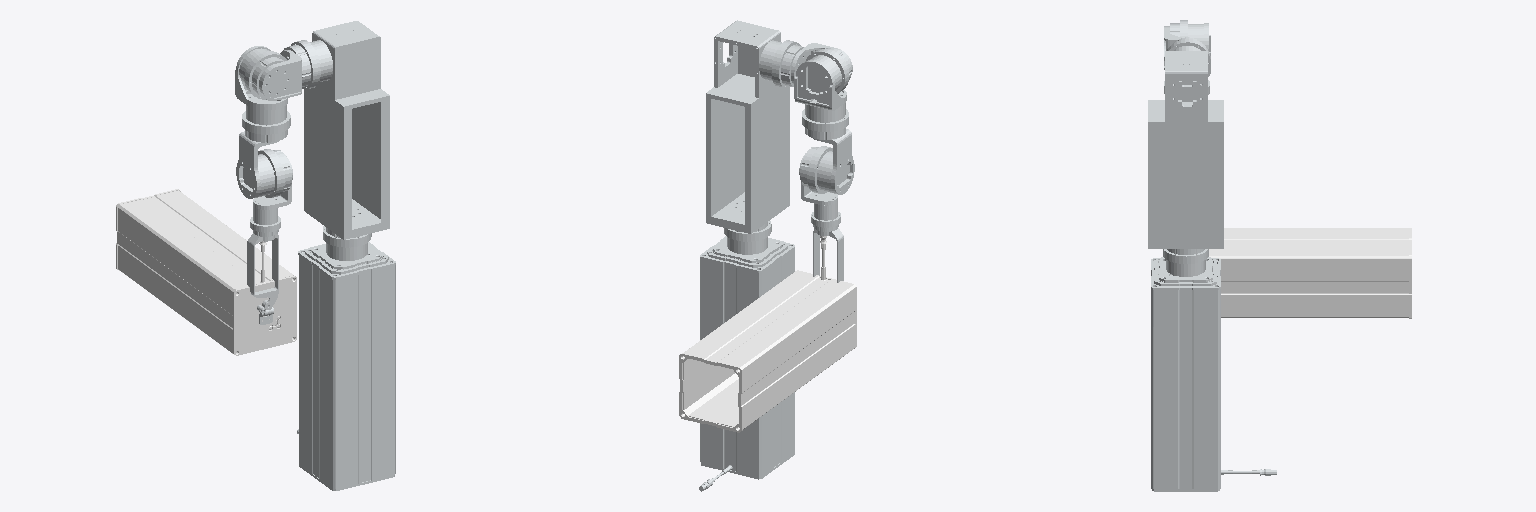
--- Facts derived from the render (not from the file) ---
3 views of the same robot in one strip: view 1: azimuth 30°, elevation 25°; view 2: azimuth 150°, elevation 25°; view 3: azimuth 270°, elevation 25° (orthographic).
Robot: urdf_34 — 31 links, 30 joints (20 revolute, 2 prismatic, 8 fixed); root link world; default pose: every joint at zero.
Links seen in each view (by area): view 1: base_link, R_hand_base_link, L_4, L_6, L_11, L_9, L_5, L_14, L_7, L_10, L_3, L_8 (+2 smaller); view 2: R_hand_base_link, L_4, base_link, L_8, L_11, L_5, L_9, L_7, L_10, L_3, L_14, L_13 (+1 smaller); view 3: R_hand_base_link, base_link, L_4, L_3, L_2, L_5.
Boxes of the visible links, x1=… form: base_link: x1=297, y1=242, x2=395, y2=490; R_hand_base_link: x1=116, y1=189, x2=296, y2=355; L_4: x1=304, y1=21, x2=389, y2=239; L_6: x1=259, y1=50, x2=301, y2=100; L_11: x1=243, y1=149, x2=291, y2=197; L_9: x1=242, y1=97, x2=290, y2=142; L_5: x1=283, y1=40, x2=332, y2=89; L_14: x1=247, y1=233, x2=278, y2=309; L_7: x1=239, y1=48, x2=287, y2=100; L_10: x1=236, y1=131, x2=278, y2=198; L_3: x1=323, y1=226, x2=371, y2=260; L_8: x1=235, y1=46, x2=287, y2=109; R_hand_base_link: x1=679, y1=236, x2=856, y2=432; L_4: x1=706, y1=20, x2=789, y2=233; base_link: x1=699, y1=236, x2=794, y2=491; L_8: x1=794, y1=60, x2=846, y2=110; L_11: x1=800, y1=146, x2=849, y2=193; L_5: x1=759, y1=40, x2=803, y2=88; L_9: x1=802, y1=103, x2=848, y2=139; L_7: x1=806, y1=48, x2=851, y2=93; L_10: x1=813, y1=129, x2=854, y2=194; L_3: x1=724, y1=221, x2=771, y2=254; L_14: x1=813, y1=228, x2=843, y2=282; L_13: x1=811, y1=202, x2=840, y2=231; R_hand_base_link: x1=1209, y1=228, x2=1411, y2=318; base_link: x1=1151, y1=258, x2=1276, y2=491; L_4: x1=1148, y1=51, x2=1223, y2=248; L_3: x1=1163, y1=249, x2=1208, y2=276; L_2: x1=1159, y1=258, x2=1212, y2=282; L_5: x1=1164, y1=37, x2=1210, y2=84.
Bounding box of the posed robot: 0.374 × 0.6211 × 1.08 m (x, y, z).
Meshes: 30 distinct files referenced, 18 mesh visuals loaded (17 binary STL); not drawn: 12 (reference not matched to a file when rendering).

robot.urdf — urdf_34:
<?xml version="1.0" encoding="utf-8"?>
<!-- This URDF was automatically created by SolidWorks to URDF Exporter! Originally created by Stephen Brawner ([email redacted]) 
     Commit Version: 1.6.0-4-g7f85cfe  Build Version: 1.6.7995.38578
     For more information, please see http://wiki.ros.org/sw_urdf_exporter -->
<robot
  name="urdf_34">
  
  
  <link name="world"/>
  <joint name="base_joint" type="fixed">
  <parent link="world"/>
  <child link="base_link"/>
  <origin rpy="0 0 0" xyz="0.0 0.0 0.0"/>
  </joint>
  
  
  <link
    name="base_link">
    <inertial>
      <origin
        xyz="1.25780987548766E-05 0.000681174627659374 0.253431024547346"
        rpy="0 0 0" />
      <mass
        value="7.68792706823456" />
      <inertia
        ixx="0.223518553679189"
        ixy="2.28783796069601E-06"
        ixz="2.4368970219585E-05"
        iyy="0.222632555984978"
        iyz="0.00126532411786533"
        izz="0.0612129580425704" />
    </inertial>
    <visual>
      <origin
        xyz="0 0 0"
        rpy="0 0 0" />
      <geometry>
        <mesh
          filename="package://urdf_33/meshes/base_link.STL" />
      </geometry>
      <material
        name="">
        <color
          rgba="0.898039215686275 0.917647058823529 0.929411764705882 1" />
      </material>
    </visual>
    <collision>
      <origin
        xyz="0 0 0"
        rpy="0 0 0" />
      <geometry>
        <mesh
          filename="package://urdf_33/meshes/base_link.STL" />
      </geometry>
    </collision>
  </link>
  <link
    name="L_1">
    <inertial>
      <origin xyz="0.00000 0.00000 0.26434" rpy="0 0 0" />
      <mass value="6.114" />
      <inertia
        ixx="0.16134344829"
        ixy="0.00"
        ixz="0.00"
        iyy="0.16134344829"
        iyz="0.00"
        izz="0.03750135048" />
    </inertial>
    <visual>
      <origin
        xyz="0 0 0"
        rpy="0 0 0" />
      <geometry>
        <mesh
          filename="package://urdf_33/meshes/L_1.STL" />
      </geometry>
      <material
        name="">
        <color
          rgba="0.898039215686275 0.917647058823529 0.929411764705882 1" />
      </material>
    </visual>
    <collision>
      <origin
        xyz="0 0 0"
        rpy="0 0 0" />
      <geometry>
        <mesh
          filename="package://urdf_33/meshes/L_1.STL" />
      </geometry>
    </collision>
  </link>
  <joint
    name="J_1"
    type="prismatic">
    <origin
      xyz="0 0 0.0055"
      rpy="0 0 0" />
    <parent
      link="base_link" />
    <child
      link="L_1" />
    <axis
      xyz="0 0 1" />
    <limit
      lower="0"
      upper="0.3"
      effort="3000"
      velocity="0.3" />
  </joint>
  <link
    name="L_2">
    <inertial>
      <origin xyz="-0.00002 0.00001 0.27355" rpy="0 0 0" />
      <mass value="5.611" />
      <inertia
        ixx="0.15270456747"
        ixy="0.00000199839"
        ixz="-0.00002255179"
        iyy="0.15270439732"
        iyz="0.00002161213"
        izz="0.02601868013" />
    </inertial>
    <visual>
      <origin
        xyz="0 0 0"
        rpy="0 0 0" />
      <geometry>
        <mesh
          filename="package://urdf_33/meshes/L_2.STL" />
      </geometry>
      <material
        name="">
        <color
          rgba="0.898039215686275 0.917647058823529 0.929411764705882 1" />
      </material>
    </visual>
    <collision>
      <origin
        xyz="0 0 0"
        rpy="0 0 0" />
      <geometry>
        <mesh
          filename="package://urdf_33/meshes/L_2.STL" />
      </geometry>
    </collision>
  </link>
  <joint
    name="J_2"
    type="prismatic">
    <origin
      xyz="0 0 0.00109999999999999"
      rpy="0 0 0" />
    <parent
      link="L_1" />
    <child
      link="L_2" />
    <axis
      xyz="0 0 1" />
    <limit
      lower="0"
      upper="0.3"
      effort="3000"
      velocity="0.3" />
  </joint>
  <link
    name="L_3">
    <inertial>
      <origin xyz="0.00111 -0.00107 0.03512" rpy="0 0 0" />
      <mass value="1.33" />
      <inertia
        ixx="0.00141885074"
        ixy="0.00"
        ixz="0.00"
        iyy="0.00142013899"
        iyz="0.00"
        izz="0.00177138551" />
    </inertial>
    <visual>
      <origin
        xyz="0 0 0"
        rpy="0 0 0" />
      <geometry>
        <mesh
          filename="package://urdf_33/meshes/L_3.STL" />
      </geometry>
      <material
        name="">
        <color
          rgba="0.898039215686275 0.917647058823529 0.929411764705882 1" />
      </material>
    </visual>
    <collision>
      <origin
        xyz="0 0 0"
        rpy="0 0 0" />
      <geometry>
        <mesh
          filename="package://urdf_33/meshes/L_3.STL" />
      </geometry>
    </collision>
  </link>
  <joint
    name="J_3"
    type="fixed">
    <origin
      xyz="-0.00111475710414264 0.00106830889147812 0.5345"
      rpy="0 0 0" />
    <parent
      link="L_2" />
    <child
      link="L_3" />
    <axis
      xyz="0 0 0" />
  </joint>
  <link
    name="L_4">
    <inertial>
      <origin xyz="0.00000 -0.00188 0.19176" rpy="0 0 0" />
      <mass value="7.125" />
      <inertia
        ixx="0.15088366647"
        ixy="0.00"
        ixz="0.00"
        iyy="0.14956609442"
        iyz="-0.00191828991"
        izz="0.03368231360" />
    </inertial>
    <visual>
      <origin
        xyz="0 0 0"
        rpy="0 0 0" />
      <geometry>
        <mesh
          filename="package://urdf_33/meshes/L_4.STL" />
      </geometry>
      <material
        name="">
        <color
          rgba="0.898039215686275 0.917647058823529 0.929411764705882 1" />
      </material>
    </visual>
    <collision>
      <origin
        xyz="0 0 0"
        rpy="0 0 0" />
      <geometry>
        <mesh
          filename="package://urdf_33/meshes/L_4.STL" />
      </geometry>
    </collision>
  </link>
  <joint
    name="J_4"
    type="revolute">
    <origin
      xyz="0.00111475710414247 -0.00105760591264392 0.0805000000000002"
      rpy="0 0 0" />
    <parent
      link="L_3" />
    <child
      link="L_4" />
    <axis
      xyz="0 0 1" />
    <limit
      lower="-1.5"
      upper="1.5"
      effort="100"
      velocity="10" />
  </joint>
  <link
    name="L_5">
    <inertial>
      <origin xyz="-0.03512 0.00000 0.00000" rpy="0 0 0" />
      <mass value="1.335" />
      <inertia
        ixx="0.00177138551"
        ixy="0.00"
        ixz="0.00"
        iyy="0.00142013899"
        iyz="0.00"
        izz="0.00141885074" />
    </inertial>
    <visual>
      <origin
        xyz="0 0 0"
        rpy="0 0 0" />
      <geometry>
        <mesh
          filename="package://urdf_33/meshes/L_5.STL" />
      </geometry>
      <material
        name="">
        <color
          rgba="0.898039215686275 0.917647058823529 0.929411764705882 1" />
      </material>
    </visual>
    <collision>
      <origin
        xyz="0 0 0"
        rpy="0 0 0" />
      <geometry>
        <mesh
          filename="package://urdf_33/meshes/L_5.STL" />
      </geometry>
    </collision>
  </link>
  <joint
    name="J_5"
    type="fixed">
    <origin
      xyz="-0.0600000000000001 0.0039892970211759 0.407499999999999"
      rpy="0 0 0" />
    <parent
      link="L_4" />
    <child
      link="L_5" />
    <axis
      xyz="0 0 0" />
  </joint>
  <link
    name="L_6">
    <inertial>
      <origin xyz="-0.03195 -0.02916 0.00000" rpy="0 0 0" />
      <mass value="0.411" />
      <inertia
        ixx="0.00049976428"
        ixy="0.00019230278"
        ixz="0.00"
        iyy="0.00065933658"
        iyz="0.00"
        izz="0.00068145683" />
    </inertial>
    <visual>
      <origin
        xyz="0 0 0"
        rpy="0 0 0" />
      <geometry>
        <mesh
          filename="package://urdf_33/meshes/L_6.STL" />
      </geometry>
      <material
        name="">
        <color
          rgba="0.898039215686275 0.917647058823529 0.929411764705882 1" />
      </material>
    </visual>
    <collision>
      <origin
        xyz="0 0 0"
        rpy="0 0 0" />
      <geometry>
        <mesh
          filename="package://urdf_33/meshes/L_6.STL" />
      </geometry>
    </collision>
  </link>
  <joint
    name="J_6"
    type="revolute">
    <origin
      xyz="-0.0805 0 0"
      rpy="0 0 0" />
    <parent
      link="L_5" />
    <child
      link="L_6" />
    <axis
      xyz="1 0 0" />
    <limit
      lower="-1.5"
      upper="1.5"
      effort="100"
      velocity="10" />
  </joint>
  <link
    name="L_7">
    <inertial>
      <origin xyz="0.00000 0.04538 0.00000" rpy="0 0 0" />
      <mass value="1.335" />
      <inertia
        ixx="0.00142013899"
        ixy="0.00"
        ixz="0.00"
        iyy="0.00177138551"
        iyz="0.00"
        izz="0.00141885074" />
    </inertial>
    <visual>
      <origin
        xyz="0 0 0"
        rpy="0 0 0" />
      <geometry>
        <mesh
          filename="package://urdf_33/meshes/L_7.STL" />
      </geometry>
      <material
        name="">
        <color
          rgba="0.898039215686275 0.917647058823529 0.929411764705882 1" />
      </material>
    </visual>
    <collision>
      <origin
        xyz="0 0 0"
        rpy="0 0 0" />
      <geometry>
        <mesh
          filename="package://urdf_33/meshes/L_7.STL" />
      </geometry>
    </collision>
  </link>
  <joint
    name="J_7"
    type="revolute">
    <origin
      xyz="-0.0670000000000069 -0.0410000000000239 0"
      rpy="0 0 0" />
    <parent
      link="L_6" />
    <child
      link="L_7" />
    <axis
      xyz="0 1 0" />
    <limit
      lower="-1.5"
      upper="1.5"
      effort="100"
      velocity="10" />
  </joint>
  <link
    name="L_8">
    <inertial>
      <origin xyz="0.00000 -0.01333 -0.03814" rpy="0 0 0" />
      <mass value="0.393" />
      <inertia
        ixx="0.00066108376"
        ixy="0.00000027"
        ixz="0.00000018"
        iyy="0.00078769340"
        iyz="0.00015213990"
        izz="0.00074367790" />
    </inertial>
    <visual>
      <origin
        xyz="0 0 0"
        rpy="0 0 0" />
      <geometry>
        <mesh
          filename="package://urdf_33/meshes/L_8.STL" />
      </geometry>
      <material
        name="">
        <color
          rgba="0.898039215686275 0.917647058823529 0.929411764705882 1" />
      </material>
    </visual>
    <collision>
      <origin
        xyz="0 0 0"
        rpy="0 0 0" />
      <geometry>
        <mesh
          filename="package://urdf_33/meshes/L_8.STL" />
      </geometry>
    </collision>
  </link>
  <joint
    name="J_8"
    type="fixed">
    <origin
      xyz="0 0.0805000000000001 0"
      rpy="0 0 0" />
    <parent
      link="L_7" />
    <child
      link="L_8" />
    <axis
      xyz="0 0 0" />
  </joint>
  <link
    name="L_9">
    <inertial>
      <origin xyz="0.00000 0.00000 -0.03512" rpy="0 0 0" />
      <mass value="1.335" />
      <inertia
        ixx="0.00142013899"
        ixy="0.00"
        ixz="0.00"
        iyy="0.00141885074"
        iyz="0.00"
        izz="0.00177138551" />
    </inertial>
    <visual>
      <origin
        xyz="0 0 0"
        rpy="0 0 0" />
      <geometry>
        <mesh
          filename="package://urdf_33/meshes/L_9.STL" />
      </geometry>
      <material
        name="">
        <color
          rgba="0.898039215686275 0.917647058823529 0.929411764705882 1" />
      </material>
    </visual>
    <collision>
      <origin
        xyz="0 0 0"
        rpy="0 0 0" />
      <geometry>
        <mesh
          filename="package://urdf_33/meshes/L_9.STL" />
      </geometry>
    </collision>
  </link>
  <joint
    name="J_9"
    type="fixed">
    <origin
      xyz="-0.000433012701890473 -0.0412499999999927 -0.0659999999999992"
      rpy="0 0 0" />
    <parent
      link="L_8" />
    <child
      link="L_9" />
    <axis
      xyz="0 0 0" />
  </joint>
  <link
    name="L_10">
    <inertial>
      <origin xyz="-0.03120 0.00044 -0.04143" rpy="0 0 0" />
      <mass value="0.330" />
      <inertia
        ixx="0.00078664219"
        ixy="-0.00000213328"
        ixz="0.00017780444"
        iyy="0.00079902226"
        iyz="-0.00000844646"
        izz="0.00033213006" />
    </inertial>
    <visual>
      <origin
        xyz="0 0 0"
        rpy="0 0 0" />
      <geometry>
        <mesh
          filename="package://urdf_33/meshes/L_10.STL" />
      </geometry>
      <material
        name="">
        <color
          rgba="0.89804 0.91765 0.92941 1" />
      </material>
    </visual>
    <collision>
      <origin
        xyz="0 0 0"
        rpy="0 0 0" />
      <geometry>
        <mesh
          filename="package://urdf_33/meshes/L_10.STL" />
      </geometry>
    </collision>
  </link>
  <joint
    name="J_10"
    type="revolute">
    <origin
      xyz="0 0 -0.0804999999999999"
      rpy="0 0 0" />
    <parent
      link="L_9" />
    <child
      link="L_10" />
    <axis
      xyz="0 0 1" />
    <limit
      lower="-1.5"
      upper="1.5"
      effort="100"
      velocity="10" />
  </joint>
  <link
    name="L_11">
    <inertial>
      <origin xyz="0.03512 0.00000 0.00000" rpy="0 0 0" />
      <mass value="1.335" />
      <inertia
        ixx="0.00177138551"
        ixy="0.00"
        ixz="0.00"
        iyy="0.00141885074"
        iyz="0.00"
        izz="0.00142013899" />
    </inertial>
    <visual>
      <origin
        xyz="0 0 0"
        rpy="0 0 0" />
      <geometry>
        <mesh
          filename="package://urdf_33/meshes/L_11.STL" />
      </geometry>
      <material
        name="">
        <color
          rgba="0.89804 0.91765 0.92941 1" />
      </material>
    </visual>
    <collision>
      <origin
        xyz="0 0 0"
        rpy="0 0 0" />
      <geometry>
        <mesh
          filename="package://urdf_33/meshes/L_11.STL" />
      </geometry>
    </collision>
  </link>
  <joint
    name="J_11"
    type="fixed">
    <origin
      xyz="-0.041 0 -0.1"
      rpy="0 0 0" />
    <parent
      link="L_10" />
    <child
      link="L_11" />
    <axis
      xyz="0 0 0" />
  </joint>
  <link
    name="L_12">
    <inertial>
      <origin xyz="-0.00870 0.00002 -0.03893" rpy="0 0 0" />
      <mass value="0.259" />
      <inertia
        ixx="0.00036532565"
        ixy="0.00000003378"
        ixz="0.00011054838"
        iyy="0.00040952064"
        iyz="-0.00000007926"
        izz="0.00019014708" />
    </inertial>
    <visual>
      <origin
        xyz="0 0 0"
        rpy="0 0 0" />
      <geometry>
        <mesh
          filename="package://urdf_33/meshes/L_12.STL" />
      </geometry>
      <material
        name="">
        <color
          rgba="0.89804 0.91765 0.92941 1" />
      </material>
    </visual>
    <collision>
      <origin
        xyz="0 0 0"
        rpy="0 0 0" />
      <geometry>
        <mesh
          filename="package://urdf_33/meshes/L_12.STL" />
      </geometry>
    </collision>
  </link>
  <joint
    name="J_12"
    type="revolute">
    <origin
      xyz="0.0805 0 0"
      rpy="0 0 0" />
    <parent
      link="L_11" />
    <child
      link="L_12" />
    <axis
      xyz="1 0 0" />
    <limit
      lower="-1.5"
      upper="1.5"
      effort="100"
      velocity="10" />
  </joint>
  <link
    name="L_13">
    <inertial>
      <origin xyz="0.00000 -0.00005 -0.03140" rpy="0 0 0" />
      <mass value="0.448" />
      <inertia
        ixx="0.00024556469"
        ixy="0.00"
        ixz="0.00"
        iyy="0.00024466436"
        iyz="0.00000003347"
        izz="0.00022188830" />
    </inertial>
    <visual>
      <origin
        xyz="0 0 0"
        rpy="0 0 0" />
      <geometry>
        <mesh
          filename="package://urdf_33/meshes/L_13.STL" />
      </geometry>
      <material
        name="">
        <color
          rgba="0.89804 0.91765 0.92941 1" />
      </material>
    </visual>
    <collision>
      <origin
        xyz="0 0 0"
        rpy="0 0 0" />
      <geometry>
        <mesh
          filename="package://urdf_33/meshes/L_13.STL" />
      </geometry>
    </collision>
  </link>
  <joint
    name="J_13"
    type="fixed">
    <origin
      xyz="-0.0410000001139579 0 -0.0749999998523891"
      rpy="0 0 0" />
    <parent
      link="L_12" />
    <child
      link="L_13" />
    <axis
      xyz="0 0 0" />
  </joint>
  
  <link
    name="L_14">
    <inertial>
      <origin xyz="-0.00267 -0.00014 -0.09488" rpy="0 0 0" />
      <mass value="0.173" />
      <inertia
        ixx="0.00072481044"
        ixy="-0.00000004450"
        ixz="-0.00002997586"
        iyy="0.00080105001"
        iyz="0.00000103706"
        izz="0.00010511083" />
    </inertial>
    <visual>
      <origin
        xyz="0 0 0"
        rpy="0 0 0" />
      <geometry>
        <mesh
          filename="package://urdf_33/meshes/L_14.STL" />
      </geometry>
      <material
        name="">
        <color
          rgba="0.898039215686275 0.917647058823529 0.929411764705882 1" />
      </material>
    </visual>
    <collision>
      <origin
        xyz="0 0 0"
        rpy="0 0 0" />
      <geometry>
        <mesh
          filename="package://urdf_33/meshes/L_14.STL" />
      </geometry>
    </collision>
  </link>
  <joint
    name="J_14"
    type="revolute">
    <origin
      xyz="0 -9.80173985849096E-05 -0.0666999279803926"
      rpy="0 0 0" />
    <parent
      link="L_13" />
    <child
      link="L_14" />
    <axis
      xyz="0 0.00146952621566586 0.999998920245768" />
    <limit
      lower="-1.5"
      upper="1.5"
      effort="100"
      velocity="10" />
  </joint>
  <link
    name="L_15">
    <inertial>
      <origin xyz="0.00000 -0.00001 -0.00900" rpy="0 0 0" />
      <mass value="0.02090" />
      <inertia
        ixx="0.00000285983"
        ixy="0.00"
        ixz="0.00"
        iyy="0.00000285983"
        iyz="0.00000000265"
        izz="0.00000105940" />
    </inertial>
    <visual>
      <origin
        xyz="0 0 0"
        rpy="0 0 0" />
      <geometry>
        <mesh
          filename="package://urdf_33/meshes/L_15.STL" />
      </geometry>
      <material
        name="">
        <color
          rgba="0.898039215686275 0.917647058823529 0.929411764705882 1" />
      </material>
    </visual>
    <collision>
      <origin
        xyz="0 0 0"
        rpy="0 0 0" />
      <geometry>
        <mesh
          filename="package://urdf_33/meshes/L_15.STL" />
      </geometry>
    </collision>
  </link>
  <joint
    name="J_15"
    type="revolute">
    <origin
      xyz="-1.32257359521659E-05 -0.000285779917684612 -0.179499764136764"
      rpy="0 0 0" />
    <parent
      link="L_14" />
    <child
      link="L_15" />
    <axis
      xyz="0 -0.999998920245768 0.00146952621563497" />
    <limit
      lower="-1.5"
      upper="1.5"
      effort="100"
      velocity="10" />
  </joint>
  <link
    name="L_16">
    <inertial>
      <origin xyz="-0.00545 0.00000 -0.00147" rpy="0 0 0" />
      <mass value="0.02957" />
      <inertia
        ixx="0.00000731332"
        ixy="0.00000001"
        ixz="-0.00000233864"
        iyy="0.00001046540"
        iyz="-0.00000001"
        izz="0.00000602770" />
    </inertial>
    <visual>
      <origin
        xyz="0 0 0"
        rpy="0 0 0" />
      <geometry>
        <mesh
          filename="package://urdf_33/meshes/L_16.STL" />
      </geometry>
      <material
        name="">
        <color
          rgba="0.898039215686275 0.917647058823529 0.929411764705882 1" />
      </material>
    </visual>
    <collision>
      <origin
        xyz="0 0 0"
        rpy="0 0 0" />
      <geometry>
        <mesh
          filename="package://urdf_33/meshes/L_16.STL" />
      </geometry>
    </collision>
  </link>
  <joint
    name="J_16"
    type="revolute">
    <origin
      xyz="0 -2.64514718814426E-05 -0.0179999805644238"
      rpy="0 0 0" />
    <parent
      link="L_15" />
    <child
      link="L_16" />
    <axis
      xyz="1 0 0" />
    <limit
      lower="-1.5"
      upper="1.5"
      effort="100"
      velocity="10" />
  </joint>
  
  <link
    name="R_hand_base_link">
    <inertial>
      <origin
        xyz="-0.0025264 -0.066047 0.0019598"
        rpy="0 0 0" />
      <mass
        value="0.14143" />
      <inertia
        ixx="0.00012281"
        ixy="2.1711E-06"
        ixz="1.7709E-06"
        iyy="8.3832E-05"
        iyz="-1.6551E-06"
        izz="7.6663E-05" />
    </inertial>
    <visual>
      <origin
        xyz="0 0 0"
        rpy="0 0 0" />
      <geometry>
        <mesh
          filename="package://r_inspire/meshes/base_link.STL" />
      </geometry>
      <material
        name="">
        <color
          rgba="1 1 1 1" />
      </material>
    </visual>
    <collision>
      <origin
        xyz="0 0 0"
        rpy="0 0 0" />
      <geometry>
        <mesh
          filename="package://r_inspire/meshes/base_link.STL" />
      </geometry>
    </collision>
  </link>
  <joint
    name="J_17"
    type="fixed">
    <origin
      xyz="1.3226E-05 0 -0.012"
      rpy="1.57 0 3.14" />
    <parent
      link="L_16" />
    <child
      link="R_hand_base_link" />
    <axis
      xyz="0 0 0" />
  </joint>
  
  <link
    name="R_thumb_proximal_base">
    <inertial>
      <origin
        xyz="-0.0048064 0.0009382 -0.00757"
        rpy="0 0 0" />
      <mass
        value="0.0018869" />
      <inertia
        ixx="5.816E-08"
        ixy="1.4539E-08"
        ixz="4.491E-09"
        iyy="7.9161E-08"
        iyz="-1.8727E-09"
        izz="6.7433E-08" />
    </inertial>
    <visual>
      <origin
        xyz="0 0 0"
        rpy="0 0 0" />
      <geometry>
        <mesh
          filename="package://r_inspire/meshes/Link11.STL" />
      </geometry>
      <material
        name="">
        <color
          rgba="1 1 1 1" />
      </material>
    </visual>
    <collision>
      <origin
        xyz="0 0 0"
        rpy="0 0 0" />
      <geometry>
        <mesh
          filename="package://r_inspire/meshes/Link11.STL" />
      </geometry>
    </collision>
  </link>
  <joint
    name="R_thumb_proximal_yaw_joint"
    type="revolute">
    <origin
      xyz="-0.01696 -0.0691 -0.02045"
      rpy="1.5708 -1.5708 0" />
    <parent
      link="R_hand_base_link" />
    <child
      link="R_thumb_proximal_base" />
    <axis
      xyz="0 0 -1" />
    <limit
      lower="-0.1"
      upper="1.3"
      effort="1"
      velocity="0.5" />
  </joint>
  <link
    name="R_thumb_proximal">
    <inertial>
      <origin
        xyz="0.021932 0.012785 -0.0080386"
        rpy="0 0 0" />
      <mass
        value="0.0066075" />
      <inertia
        ixx="1.5686E-06"
        ixy="-7.8296E-07"
        ixz="8.9143E-10"
        iyy="1.7353E-06"
        iyz="-1.0191E-09"
        izz="2.786E-06" />
    </inertial>
    <visual>
      <origin
        xyz="0 0 0"
        rpy="0 0 0" />
      <geometry>
        <mesh
          filename="package://r_inspire/meshes/Link12.STL" />
      </geometry>
      <material
        name="">
        <color
          rgba="1 1 1 1" />
      </material>
    </visual>
    <collision>
      <origin
        xyz="0 0 0"
        rpy="0 0 0" />
      <geometry>
        <mesh
          filename="package://r_inspire/meshes/Link12.STL" />
      </geometry>
    </collision>
  </link>
  <joint
    name="R_thumb_proximal_pitch_joint"
    type="revolute">
    <origin
      xyz="-0.0088099 0.010892 -0.00925"
      rpy="1.5708 0 2.8587" />
    <parent
      link="R_thumb_proximal_base" />
    <child
      link="R_thumb_proximal" />
    <axis
      xyz="0 0 1" />
    <limit
      lower="-0.1"
      upper="0.6"
      effort="1"
      velocity="0.5" />
  </joint>
  <link
    name="R_thumb_intermediate">
    <inertial>
      <origin
        xyz="0.0095544 -0.0016282 -0.0071997"
        rpy="0 0 0" />
      <mass
        value="0.0037847" />
      <inertia
        ixx="3.6981E-07"
        ixy="-9.8581E-08"
        ixz="-4.7469E-12"
        iyy="3.2394E-07"
        iyz="1.0939E-12"
        izz="4.6531E-07" />
    </inertial>
    <visual>
      <origin
        xyz="0 0 0"
        rpy="0 0 0" />
      <geometry>
        <mesh
          filename="package://r_inspire/meshes/Link13.STL" />
      </geometry>
      <material
        name="">
        <color
          rgba="1 1 1 1" />
      </material>
    </visual>
    <collision>
      <origin
        xyz="0 0 0"
        rpy="0 0 0" />
      <geometry>
        <mesh
          filename="package://r_inspire/meshes/Link13.STL" />
      </geometry>
    </collision>
  </link>
  <joint
    name="R_thumb_intermediate_joint"
    type="revolute">
    <origin
      xyz="0.04407 0.034553 -0.0008"
      rpy="0 0 0" />
    <parent
      link="R_thumb_proximal" />
    <child
      link="R_thumb_intermediate" />
    <axis
      xyz="0 0 1" />
    <limit
      lower="0"
      upper="0.8"
      effort="1"
      velocity="0.5" />
    <mimic 
      joint="R_thumb_proximal_pitch_joint"
      multiplier="1.6"
      offset="0" />
  </joint>
  <link
    name="R_thumb_distal">
    <inertial>
      <origin
        xyz="0.0092888 0.0049529 -0.0060033"
        rpy="0 0 0" />
      <mass
        value="0.0033441" />
      <inertia
        ixx="1.3632E-07"
        ixy="-5.6788E-08"
        ixz="-9.2764E-11"
        iyy="1.4052E-07"
        iyz="-1.2283E-10"
        izz="2.0026E-07" />
    </inertial>
    <visual>
      <origin
        xyz="0 0 0"
        rpy="0 0 0" />
      <geometry>
        <mesh
          filename="package://r_inspire/meshes/Link14.STL" />
      </geometry>
      <material
        name="">
        <color
          rgba="1 1 1 1" />
      </material>
    </visual>
    <collision>
      <origin
        xyz="0 0 0"
        rpy="0 0 0" />
      <geometry>
        <mesh
          filename="package://r_inspire/meshes/Link14.STL" />
      </geometry>
    </collision>
  </link>
  <joint
    name="R_thumb_distal_joint"
    type="revolute">
    <origin
      xyz="0.020248 0.010156 -0.0012"
      rpy="0 0 0" />
    <parent
      link="R_thumb_intermediate" />
    <child
      link="R_thumb_distal" />
    <axis
      xyz="0 0 1" />
    <limit
      lower="0"
      upper="1.2"
      effort="1"
      velocity="0.5" />
    <mimic 
      joint="R_thumb_proximal_pitch_joint"
      multiplier="2.4"
      offset="0" />
  </joint>
  <link
    name="R_index_proximal">
    <inertial>
      <origin
        xyz="0.0012259 0.011942 -0.0060001"
        rpy="0 0 0" />
      <mass
        value="0.0042403" />
      <inertia
        ixx="6.6232E-07"
        ixy="-1.5775E-08"
        ixz="1.8515E-12"
        iyy="2.1146E-07"
        iyz="-5.0828E-12"
        izz="6.9398E-07" />
    </inertial>
    <visual>
      <origin
        xyz="0 0 0"
        rpy="0 0 0" />
      <geometry>
        <mesh
          filename="package://r_inspire/meshes/Link15.STL" />
      </geometry>
      <material
        name="">
        <color
          rgba="1 1 1 1" />
      </material>
    </visual>
    <collision>
      <origin
        xyz="0 0 0"
        rpy="0 0 0" />
      <geometry>
        <mesh
          filename="package://r_inspire/meshes/Link15.STL" />
      </geometry>
    </collision>
  </link>
  <joint
    name="R_index_proximal_joint"
    type="revolute">
    <origin
      xyz="0.00028533 -0.13653 -0.032268"
      rpy="-3.1067 0 0" />
    <parent
      link="R_hand_base_link" />
    <child
      link="R_index_proximal" />
    <axis
      xyz="0 0 1" />
    <limit
      lower="0"
      upper="1.7"
      effort="1"
      velocity="0.5" />
  </joint>
  <link
    name="R_index_intermediate">
    <inertial>
      <origin
        xyz="0.0019697 0.019589 -0.005"
        rpy="0 0 0" />
      <mass
        value="0.0045683" />
      <inertia
        ixx="7.6111E-07"
        ixy="8.7637E-08"
        ixz="-3.7751E-13"
        iyy="9.6076E-08"
        iyz="9.9444E-13"
        izz="7.8179E-07" />
    </inertial>
    <visual>
      <origin
        xyz="0 0 0"
        rpy="0 0 0" />
      <geometry>
        <mesh
          filename="package://r_inspire/meshes/Link16.STL" />
      </geometry>
      <material
        name="">
        <color
          rgba="1 1 1 1" />
      </material>
    </visual>
    <collision>
      <origin
        xyz="0 0 0"
        rpy="0 0 0" />
      <geometry>
        <mesh
          filename="package://r_inspire/meshes/Link16.STL" />
      </geometry>
    </collision>
  </link>
  <joint
    name="R_index_intermediate_joint"
    type="revolute">
    <origin
      xyz="-0.0026138 0.032026 -0.001"
      rpy="0 0 0" />
    <parent
      link="R_index_proximal" />
    <child
      link="R_index_intermediate" />
    <axis
      xyz="0 0 1" />
    <limit
      lower="0"
      upper="1.7"
      effort="1"
      velocity="0.5" />
    <mimic 
      joint="R_index_proximal_joint"
      multiplier="1"
      offset="0" />
  </joint>
  <link
    name="R_middle_proximal">
    <inertial>
      <origin
        xyz="0.001297 0.011934 -0.0060001"
        rpy="0 0 0" />
      <mass
        value="0.0042403" />
      <inertia
        ixx="6.6211E-07"
        ixy="-1.8461E-08"
        ixz="1.8002E-12"
        iyy="2.1167E-07"
        iyz="-6.6808E-12"
        izz="6.9397E-07" />
    </inertial>
    <visual>
      <origin
        xyz="0 0 0"
        rpy="0 0 0" />
      <geometry>
        <mesh
          filename="package://r_inspire/meshes/Link17.STL" />
      </geometry>
      <material
        name="">
        <color
          rgba="1 1 1 1" />
      </material>
    </visual>
    <collision>
      <origin
        xyz="0 0 0"
        rpy="0 0 0" />
      <geometry>
        <mesh
          filename="package://r_inspire/meshes/Link17.STL" />
      </geometry>
    </collision>
  </link>
  <joint
    name="R_middle_proximal_joint"
    type="revolute">
    <origin
      xyz="0.00028533 -0.1371 -0.01295"
      rpy="-3.1416 0 0" />
    <parent
      link="R_hand_base_link" />
    <child
      link="R_middle_proximal" />
    <axis
      xyz="0 0 1" />
    <limit
      lower="0"
      upper="1.7"
      effort="1"
      velocity="0.5" />
  </joint>
  <link
    name="R_middle_intermediate">
    <inertial>
      <origin
        xyz="0.001921 0.020796 -0.005"
        rpy="0 0 0" />
      <mass
        value="0.0050396" />
      <inertia
        ixx="9.5822E-07"
        ixy="1.1425E-07"
        ixz="-2.4791E-12"
        iyy="1.0646E-07"
        iyz="5.9173E-12"
        izz="9.8384E-07" />
    </inertial>
    <visual>
      <origin
        xyz="0 0 0"
        rpy="0 0 0" />
      <geometry>
        <mesh
          filename="package://r_inspire/meshes/Link18.STL" />
      </geometry>
      <material
        name="">
        <color
          rgba="1 1 1 1" />
      </material>
    </visual>
    <collision>
      <origin
        xyz="0 0 0"
        rpy="0 0 0" />
      <geometry>
        <mesh
          filename="package://r_inspire/meshes/Link18.STL" />
      </geometry>
    </collision>
  </link>
  <joint
    name="R_middle_intermediate_joint"
    type="revolute">
    <origin
      xyz="-0.0024229 0.032041 -0.001"
      rpy="0 0 0" />
    <parent
      link="R_middle_proximal" />
    <child
      link="R_middle_intermediate" />
    <axis
      xyz="0 0 1" />
    <limit
      lower="0"
      upper="1.7"
      effort="1"
      velocity="0.5" />
    <mimic 
      joint="R_middle_proximal_joint"
      multiplier="1"
      offset="0" />
  </joint>
  <link
    name="R_ring_proximal">
    <inertial>
      <origin
        xyz="0.001297 0.011934 -0.0060002"
        rpy="0 0 0" />
      <mass
        value="0.0042403" />
      <inertia
        ixx="6.6211E-07"
        ixy="-1.8461E-08"
        ixz="1.5793E-12"
        iyy="2.1167E-07"
        iyz="-6.6868E-12"
        izz="6.9397E-07" />
    </inertial>
    <visual>
      <origin
        xyz="0 0 0"
        rpy="0 0 0" />
      <geometry>
        <mesh
          filename="package://r_inspire/meshes/Link19.STL" />
      </geometry>
      <material
        name="">
        <color
          rgba="1 1 1 1" />
      </material>
    </visual>
    <collision>
      <origin
        xyz="0 0 0"
        rpy="0 0 0" />
      <geometry>
        <mesh
          filename="package://r_inspire/meshes/Link19.STL" />
      </geometry>
    </collision>
  </link>
  <joint
    name="R_ring_proximal_joint"
    type="revolute">
    <origin
      xyz="0.00028533 -0.13691 0.0062872"
      rpy="3.0892 0 0" />
    <parent
      link="R_hand_base_link" />
    <child
      link="R_ring_proximal" />
    <axis
      xyz="0 0 1" />
    <limit
      lower="0"
      upper="1.7"
      effort="1"
      velocity="0.5" />
  </joint>
  <link
    name="R_ring_intermediate">
    <inertial>
      <origin
        xyz="0.0021753 0.019567 -0.005"
        rpy="0 0 0" />
      <mass
        value="0.0045683" />
      <inertia
        ixx="7.6286E-07"
        ixy="8.0635E-08"
        ixz="-6.1562E-13"
        iyy="9.431E-08"
        iyz="5.8619E-13"
        izz="7.8177E-07" />
    </inertial>
    <visual>
      <origin
        xyz="0 0 0"
        rpy="0 0 0" />
      <geometry>
        <mesh
          filename="package://r_inspire/meshes/Link20.STL" />
      </geometry>
      <material
        name="">
        <color
          rgba="1 1 1 1" />
      </material>
    </visual>
    <collision>
      <origin
        xyz="0 0 0"
        rpy="0 0 0" />
      <geometry>
        <mesh
          filename="package://r_inspire/meshes/Link20.STL" />
      </geometry>
    </collision>
  </link>
  <joint
    name="R_ring_intermediate_joint"
    type="revolute">
    <origin
      xyz="-0.0024229 0.032041 -0.001"
      rpy="0 0 0" />
    <parent
      link="R_ring_proximal" />
    <child
      link="R_ring_intermediate" />
    <axis
      xyz="0 0 1" />
    <limit
      lower="0"
      upper="1.7"
      effort="1"
      velocity="0.5" />
    <mimic 
      joint="R_ring_proximal_joint"
      multiplier="1"
      offset="0" />
  </joint>
  <link
    name="R_pinky_proximal">
    <inertial>
      <origin
        xyz="0.001297 0.011934 -0.0060001"
        rpy="0 0 0" />
      <mass
        value="0.0042403" />
      <inertia
        ixx="6.6211E-07"
        ixy="-1.8461E-08"
        ixz="1.6907E-12"
        iyy="2.1167E-07"
        iyz="-6.9334E-12"
        izz="6.9397E-07" />
    </inertial>
    <visual>
      <origin
        xyz="0 0 0"
        rpy="0 0 0" />
      <geometry>
        <mesh
          filename="package://r_inspire/meshes/Link21.STL" />
      </geometry>
      <material
        name="">
        <color
          rgba="1 1 1 1" />
      </material>
    </visual>
    <collision>
      <origin
        xyz="0 0 0"
        rpy="0 0 0" />
      <geometry>
        <mesh
          filename="package://r_inspire/meshes/Link21.STL" />
      </geometry>
    </collision>
  </link>
  <joint
    name="R_pinky_proximal_joint"
    type="revolute">
    <origin
      xyz="0.00028533 -0.13571 0.025488"
      rpy="3.0369 0 0" />
    <parent
      link="R_hand_base_link" />
    <child
      link="R_pinky_proximal" />
    <axis
      xyz="0 0 1" />
    <limit
      lower="0"
      upper="1.7"
      effort="1"
      velocity="0.5" />
  </joint>
  <link
    name="R_pinky_intermediate">
    <inertial>
      <origin
        xyz="0.0024748 0.016203 -0.0050031"
        rpy="0 0 0" />
      <mass
        value="0.0035996" />
      <inertia
        ixx="4.3913E-07"
        ixy="4.1418E-08"
        ixz="3.7168E-11"
        iyy="7.0247E-08"
        iyz="5.8613E-11"
        izz="4.4867E-07" />
    </inertial>
    <visual>
      <origin
        xyz="0 0 0"
        rpy="0 0 0" />
      <geometry>
        <mesh
          filename="package://r_inspire/meshes/Link22.STL" />
      </geometry>
      <material
        name="">
        <color
          rgba="1 1 1 1" />
      </material>
    </visual>
    <collision>
      <origin
        xyz="0 0 0"
        rpy="0 0 0" />
      <geometry>
        <mesh
          filename="package://r_inspire/meshes/Link22.STL" />
      </geometry>
    </collision>
  </link>
  <joint
    name="R_pinky_intermediate_joint"
    type="revolute">
    <origin
      xyz="-0.0024229 0.032041 -0.001"
      rpy="0 0 0" />
    <parent
      link="R_pinky_proximal" />
    <child
      link="R_pinky_intermediate" />
    <axis
      xyz="0 0 1" />
    <limit
      lower="0"
      upper="1.7"
      effort="1"
      velocity="0.5" />
    <mimic 
      joint="R_pinky_proximal_joint"
      multiplier="1"
      offset="0" />
  </joint>
  
   <transmission name="transmission_R_thumb_proximal_yaw_joint">
      <type>transmission_interface/SimpleTransmission</type>
      <joint name="R_thumb_proximal_yaw_joint">
        <hardwareInterface>hardware_interface/PositionJointInterface</hardwareInterface>
      </joint>
      <actuator name="motor_R_thumb_proximal_yaw_joint">
        <hardwareInterface>hardware_interface/PositionJointInterface</hardwareInterface>
        <mechanicalReduction>1</mechanicalReduction>
      </actuator>
    </transmission>

    <transmission name="transmission_R_thumb_proximal_pitch_joint">
      <type>transmission_interface/SimpleTransmission</type>
      <joint name="R_thumb_proximal_pitch_joint">
        <hardwareInterface>hardware_interface/PositionJointInterface</hardwareInterface>
      </joint>
      <actuator name="motor_R_thumb_proximal_pitch_joint">
        <hardwareInterface>hardware_interface/PositionJointInterface</hardwareInterface>
        <mechanicalReduction>1</mechanicalReduction>
      </actuator>
    </transmission>

    <transmission name="transmission_R_thumb_intermediate_joint">
      <type>transmission_interface/SimpleTransmission</type>
      <joint name="R_thumb_intermediate_joint">
        <hardwareInterface>hardware_interface/PositionJointInterface</hardwareInterface>
      </joint>
      <actuator name="motor_R_thumb_intermediate_joint">
        <hardwareInterface>hardware_interface/PositionJointInterface</hardwareInterface>
        <mechanicalReduction>1</mechanicalReduction>
      </actuator>
    </transmission>

    <transmission name="transmission_R_thumb_distal_joint">
      <type>transmission_interface/SimpleTransmission</type>
      <joint name="R_thumb_distal_joint">
        <hardwareInterface>hardware_interface/PositionJointInterface</hardwareInterface>
      </joint>
      <actuator name="motor_R_thumb_distal_joint">
        <hardwareInterface>hardware_interface/PositionJointInterface</hardwareInterface>
        <mechanicalReduction>1</mechanicalReduction>
      </actuator>
    </transmission>

    <transmission name="transmission_R_index_proximal_joint">
      <type>transmission_interface/SimpleTransmission</type>
      <joint name="R_index_proximal_joint">
        <hardwareInterface>hardware_interface/PositionJointInterface</hardwareInterface>
      </joint>
      <actuator name="motor_R_index_proximal_joint">
        <hardwareInterface>hardware_interface/PositionJointInterface</hardwareInterface>
        <mechanicalReduction>1</mechanicalReduction>
      </actuator>
    </transmission>

    <transmission name="transmission_R_index_intermediate_joint">
      <type>transmission_interface/SimpleTransmission</type>
      <joint name="R_index_intermediate_joint">
        <hardwareInterface>hardware_interface/PositionJointInterface</hardwareInterface>
      </joint>
      <actuator name="motor_R_index_intermediate_joint">
        <hardwareInterface>hardware_interface/PositionJointInterface</hardwareInterface>
        <mechanicalReduction>1</mechanicalReduction>
      </actuator>
    </transmission>

    <transmission name="transmission_R_middle_proximal_joint">
      <type>transmission_interface/SimpleTransmission</type>
      <joint name="R_middle_proximal_joint">
        <hardwareInterface>hardware_interface/PositionJointInterface</hardwareInterface>
      </joint>
      <actuator name="motor_R_middle_proximal_joint">
        <hardwareInterface>hardware_interface/PositionJointInterface</hardwareInterface>
        <mechanicalReduction>1</mechanicalReduction>
      </actuator>
    </transmission>

    <transmission name="transmission_R_middle_intermediate_joint">
      <type>transmission_interface/SimpleTransmission</type>
      <joint name="R_middle_intermediate_joint">
        <hardwareInterface>hardware_interface/PositionJointInterface</hardwareInterface>
      </joint>
      <actuator name="motor_R_middle_intermediate_joint">
        <hardwareInterface>hardware_interface/PositionJointInterface</hardwareInterface>
        <mechanicalReduction>1</mechanicalReduction>
      </actuator>
    </transmission>

    <transmission name="transmission_R_ring_proximal_joint">
      <type>transmission_interface/SimpleTransmission</type>
      <joint name="R_ring_proximal_joint">
        <hardwareInterface>hardware_interface/PositionJointInterface</hardwareInterface>
      </joint>
      <actuator name="motor_R_ring_proximal_joint">
        <hardwareInterface>hardware_interface/PositionJointInterface</hardwareInterface>
        <mechanicalReduction>1</mechanicalReduction>
      </actuator>
    </transmission>

    <transmission name="transmission_R_ring_intermediate_joint">
      <type>transmission_interface/SimpleTransmission</type>
      <joint name="R_ring_intermediate_joint">
        <hardwareInterface>hardware_interface/PositionJointInterface</hardwareInterface>
      </joint>
      <actuator name="motor_R_ring_intermediate_joint">
        <hardwareInterface>hardware_interface/PositionJointInterface</hardwareInterface>
        <mechanicalReduction>1</mechanicalReduction>
      </actuator>
    </transmission>

    <transmission name="transmission_R_pinky_proximal_joint">
      <type>transmission_interface/SimpleTransmission</type>
      <joint name="R_pinky_proximal_joint">
        <hardwareInterface>hardware_interface/PositionJointInterface</hardwareInterface>
      </joint>
      <actuator name="motor_R_pinky_proximal_joint">
        <hardwareInterface>hardware_interface/PositionJointInterface</hardwareInterface>
        <mechanicalReduction>1</mechanicalReduction>
      </actuator>
    </transmission>

    <transmission name="transmission_R_pinky_intermediate_joint">
      <type>transmission_interface/SimpleTransmission</type>
      <joint name="R_pinky_intermediate_joint">
        <hardwareInterface>hardware_interface/PositionJointInterface</hardwareInterface>
      </joint>
      <actuator name="motor_R_pinky_intermediate_joint">
        <hardwareInterface>hardware_interface/PositionJointInterface</hardwareInterface>
        <mechanicalReduction>1</mechanicalReduction>
      </actuator>
    </transmission>
  
  <gazebo>
  <plugin name="control" filename="libgazebo_ros_control.so">
  <robotNamespace>/</robotNamespace>
  </plugin>
  </gazebo>
  
  <transmission name="transmission_J_1">
  <type>transmission_interface/SimpleTransmission</type>
  <joint name="J_1">
    <hardwareInterface>hardware_interface/PositionJointInterface</hardwareInterface>
  </joint>
  <actuator name="motor_J_1">
    <hardwareInterface>hardware_interface/PositionJointInterface</hardwareInterface>
    <mechanicalReduction>1</mechanicalReduction>
  </actuator>
  </transmission>
  
  <transmission name="transmission_J_2">
  <type>transmission_interface/SimpleTransmission</type>
  <joint name="J_2">
    <hardwareInterface>hardware_interface/PositionJointInterface</hardwareInterface>
  </joint>
  <actuator name="motor_J_2">
    <hardwareInterface>hardware_interface/PositionJointInterface</hardwareInterface>
    <mechanicalReduction>1</mechanicalReduction>
  </actuator>
  </transmission>
  
  <transmission name="transmission_J_4">
  <type>transmission_interface/SimpleTransmission</type>
  <joint name="J_4">
    <hardwareInterface>hardware_interface/PositionJointInterface</hardwareInterface>
  </joint>
  <actuator name="motor_J_4">
    <hardwareInterface>hardware_interface/PositionJointInterface</hardwareInterface>
    <mechanicalReduction>1</mechanicalReduction>
  </actuator>
  </transmission>
  
  <transmission name="transmission_J_6">
  <type>transmission_interface/SimpleTransmission</type>
  <joint name="J_6">
    <hardwareInterface>hardware_interface/PositionJointInterface</hardwareInterface>
  </joint>
  <actuator name="motor_J_6">
    <hardwareInterface>hardware_interface/PositionJointInterface</hardwareInterface>
    <mechanicalReduction>1</mechanicalReduction>
  </actuator>
  </transmission>
  
  <transmission name="transmission_J_7">
  <type>transmission_interface/SimpleTransmission</type>
  <joint name="J_7">
    <hardwareInterface>hardware_interface/PositionJointInterface</hardwareInterface>
  </joint>
  <actuator name="motor_J_7">
    <hardwareInterface>hardware_interface/PositionJointInterface</hardwareInterface>
    <mechanicalReduction>1</mechanicalReduction>
  </actuator>
</transmission>
  
  <transmission name="transmission_J_10">
  <type>transmission_interface/SimpleTransmission</type>
  <joint name="J_10">
    <hardwareInterface>hardware_interface/PositionJointInterface</hardwareInterface>
  </joint>
  <actuator name="motor_J_10">
    <hardwareInterface>hardware_interface/PositionJointInterface</hardwareInterface>
    <mechanicalReduction>1</mechanicalReduction>
  </actuator>
  </transmission>
  
  <transmission name="transmission_J_12">
  <type>transmission_interface/SimpleTransmission</type>
  <joint name="J_12">
    <hardwareInterface>hardware_interface/PositionJointInterface</hardwareInterface>
  </joint>
  <actuator name="motor_J_12">
    <hardwareInterface>hardware_interface/PositionJointInterface</hardwareInterface>
    <mechanicalReduction>1</mechanicalReduction>
  </actuator>
</transmission>
  
  <transmission name="transmission_J_14">
  <type>transmission_interface/SimpleTransmission</type>
  <joint name="J_14">
    <hardwareInterface>hardware_interface/PositionJointInterface</hardwareInterface>
  </joint>
  <actuator name="motor_J_14">
    <hardwareInterface>hardware_interface/PositionJointInterface</hardwareInterface>
    <mechanicalReduction>1</mechanicalReduction>
  </actuator>
</transmission>

<transmission name="transmission_J_15">
  <type>transmission_interface/SimpleTransmission</type>
  <joint name="J_15">
    <hardwareInterface>hardware_interface/PositionJointInterface</hardwareInterface>
  </joint>
  <actuator name="motor_J_15">
    <hardwareInterface>hardware_interface/PositionJointInterface</hardwareInterface>
    <mechanicalReduction>1</mechanicalReduction>
  </actuator>
</transmission>
  
  <transmission name="transmission_J_16">
  <type>transmission_interface/SimpleTransmission</type>
  <joint name="J_16">
    <hardwareInterface>hardware_interface/PositionJointInterface</hardwareInterface>
  </joint>
  <actuator name="motor_J_16">
    <hardwareInterface>hardware_interface/PositionJointInterface</hardwareInterface>
    <mechanicalReduction>1</mechanicalReduction>
  </actuator>
</transmission>


  
</robot>
